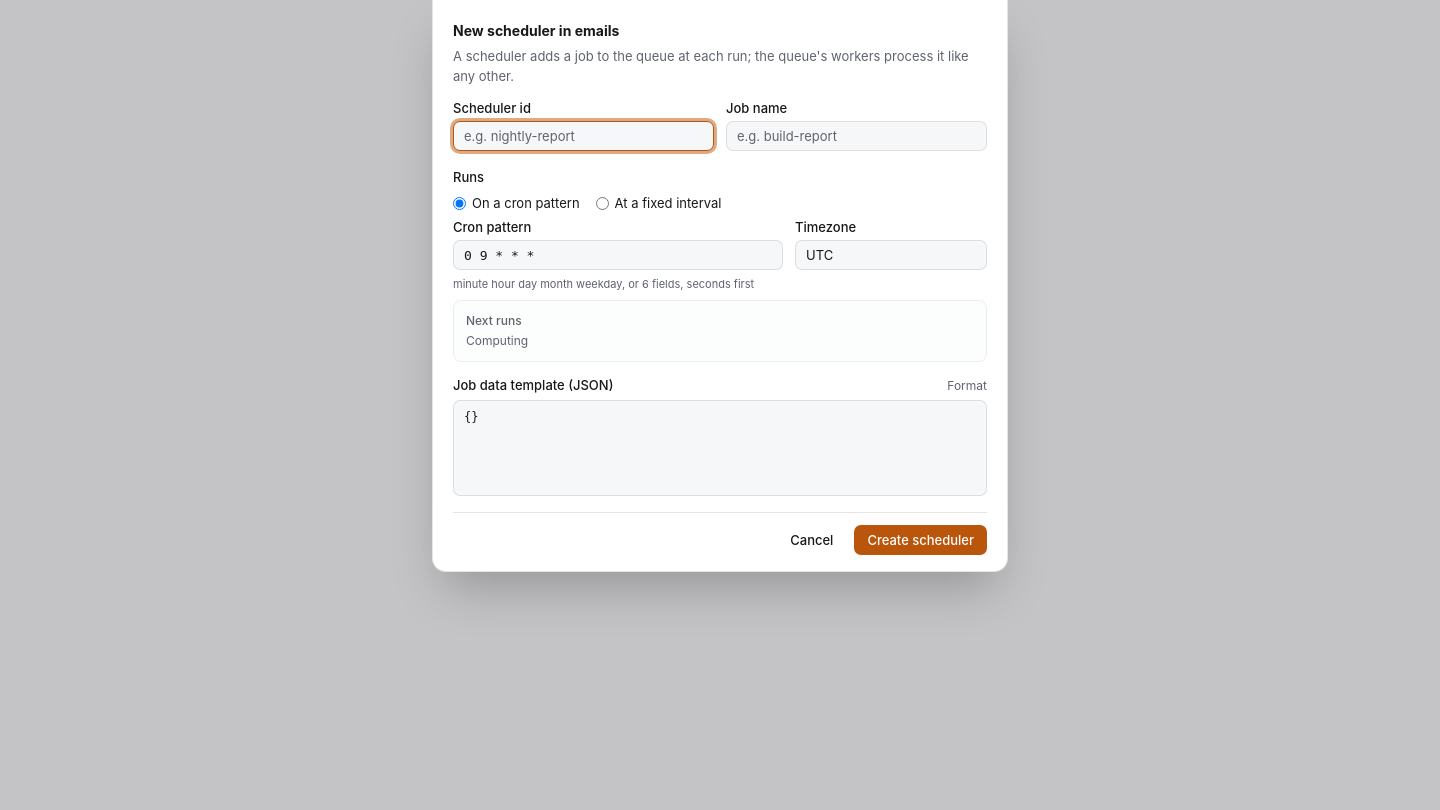
SchedulerSheet: create › rejects an invalid pattern inline and blocks saving
Replace the text in the field labelled "Cron pattern" with "0 9 L * *" at (618, 255), box [453,240,783,270]
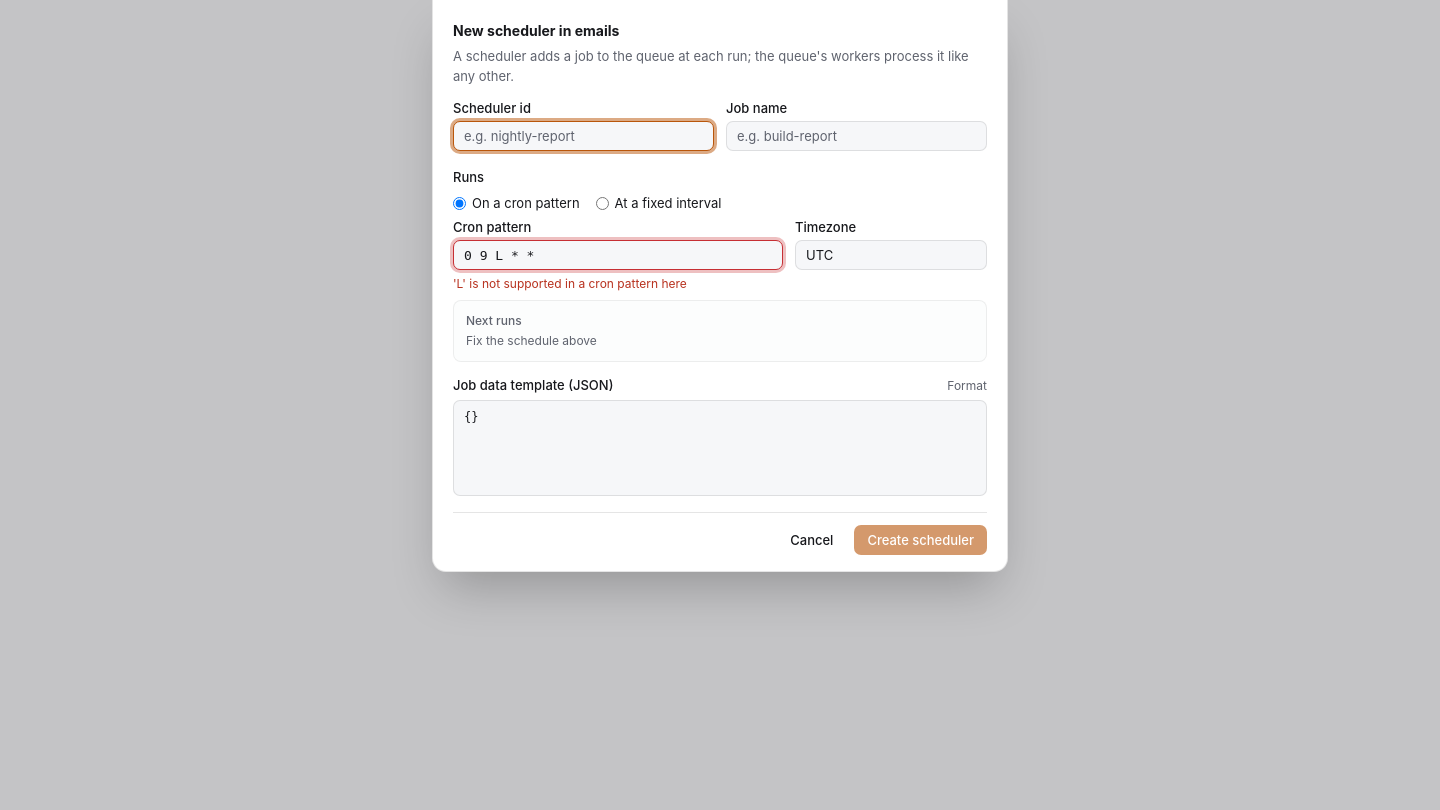
Result: the text with test id "scheduler-pattern-error" shows "'L' is not supported" at [453,276,687,291]
Result: the button with test id "scheduler-save" is disabled at [854,525,987,555]
Result: the element with test id "scheduler-next-runs" shows "Fix the schedule above" at [466,333,597,348]
